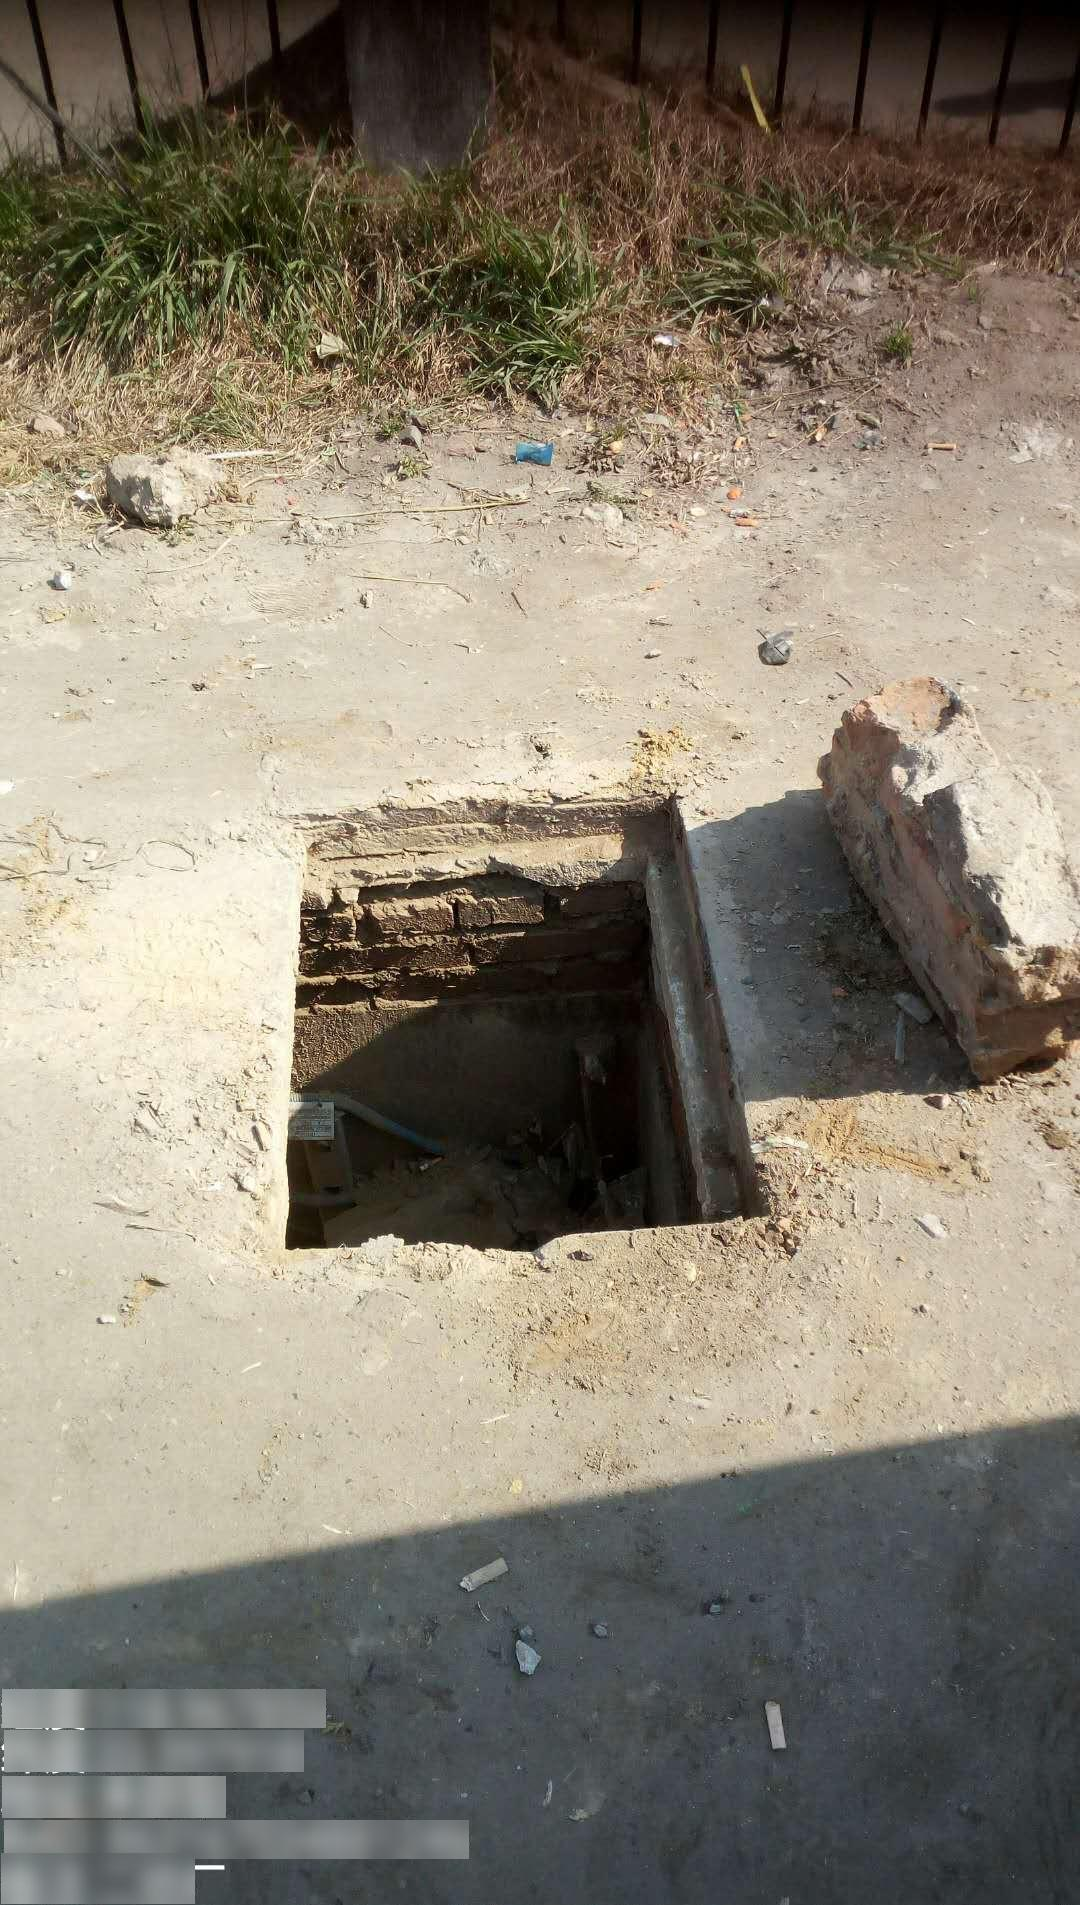wellcover: (241, 751, 804, 1291)
